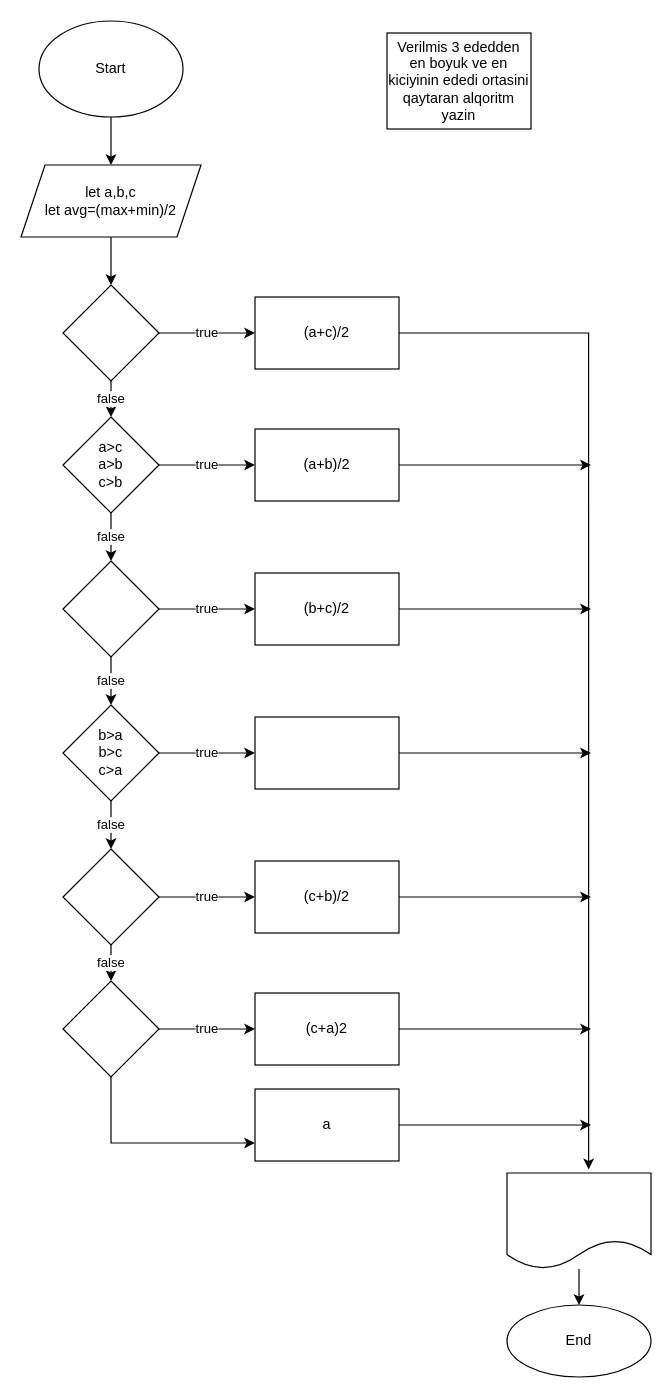
Image size: 672x1398. Some labels were removed from this diagram. Here are the shapes that lost their labels. From the top down, the centre of each, then its label:
point 110,332: a>c a>b b>c
point 110,608: b>a b>c a>c
point 326,752: (b+a)/2
point 110,896: c>a c>b a>b
point 110,1028: c>a c>b b>a
point 578,1220: avg
